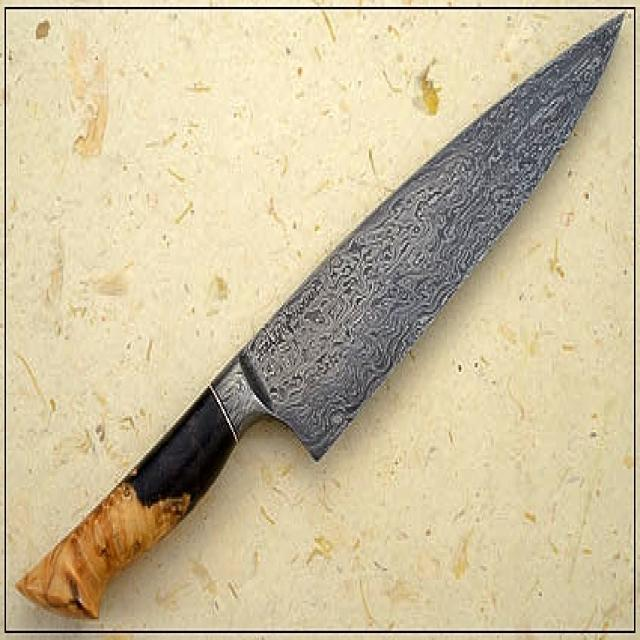Pisau: (13, 2, 634, 614)
